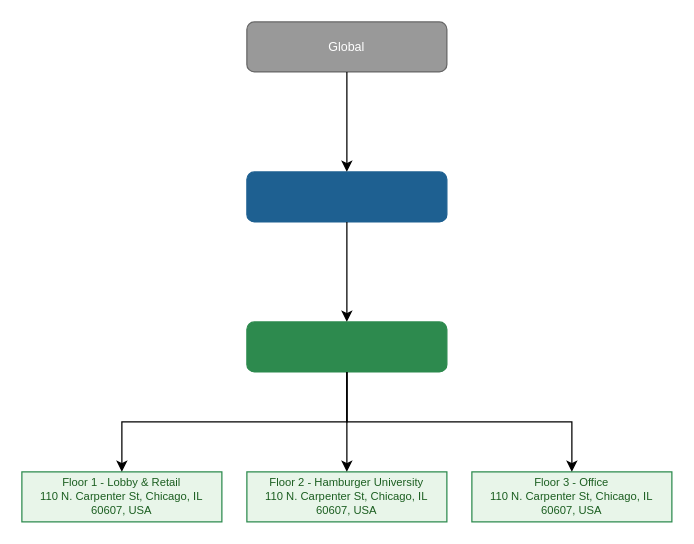
Some shapes in this 694 by 544 pixel diagram are drawn without their labels. The box of each missing label's shape, as (x1, y1, x2, y2) in pixels:
HU Chicago 110 N. Carpenter St, Chicago, IL 60607, USA 41.8849, -87.6522: (246, 321, 447, 372)
North America: (246, 171, 447, 222)
